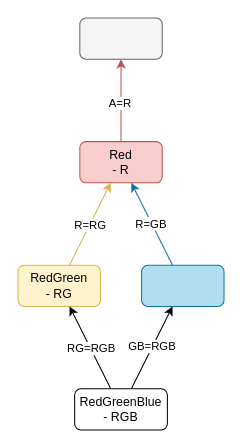
Image size: 242x448. Some labels were removed from this diagram. The shapes that lost their labels are listed below. From the top down, each one's centre as x and y in pixels, then its label:
At (x=120, y=38): "Ancestor - A".
At (x=182, y=285): "GreenBlue - GB".
